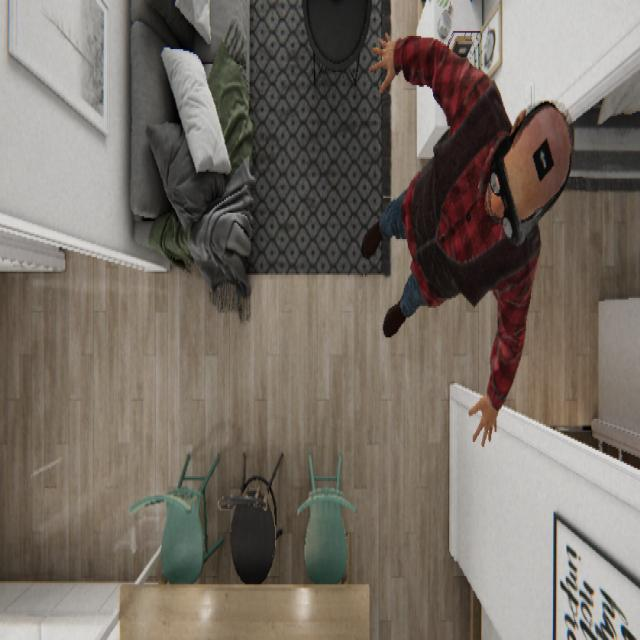Human: (360, 29, 574, 447)
UnityLogo: (494, 97, 574, 246), (532, 134, 554, 182)
